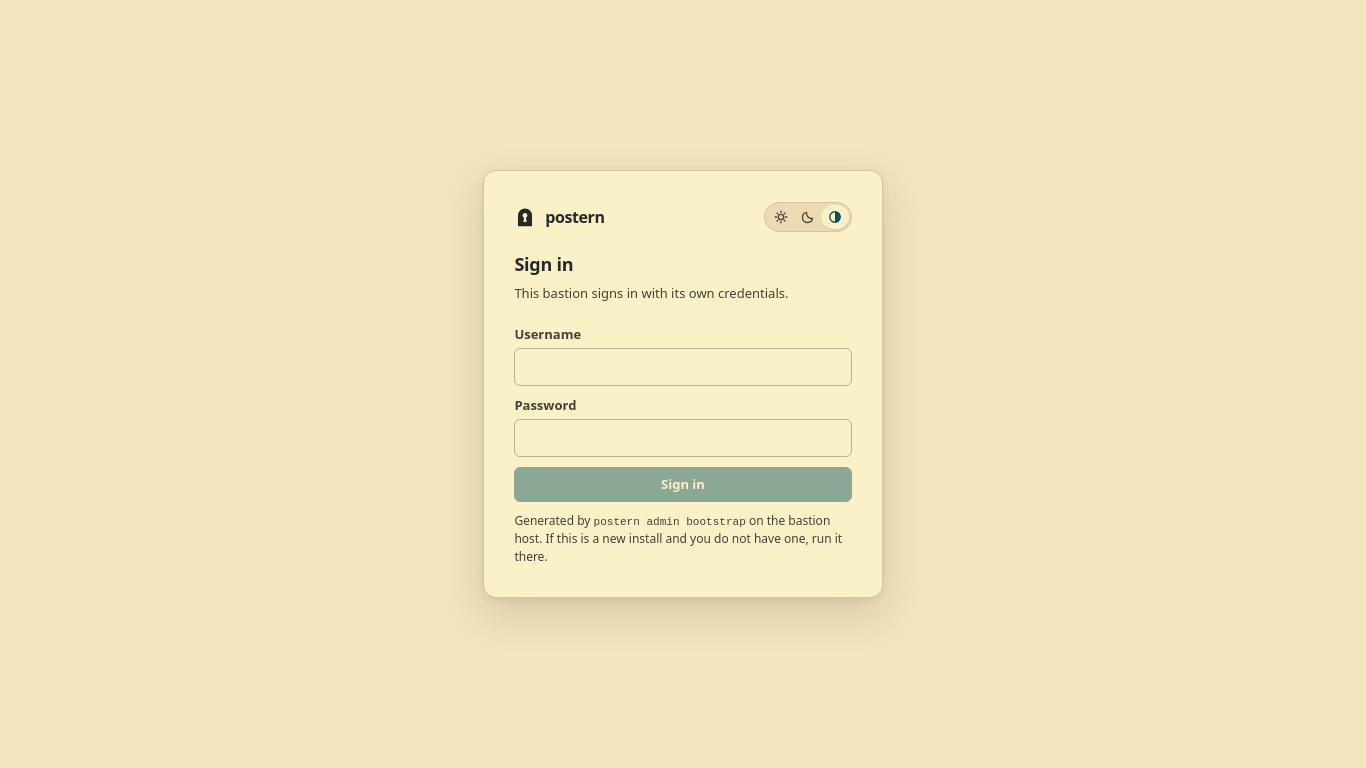
giris yollari › suresi gecmis istem giris adimina dondurur
expect the password field labelled "Password" is shown: met, box [514,419,852,457]
Type "ayse" into the field labelled "Username". click: {"x": 683, "y": 367}
box: [514,348,852,386]
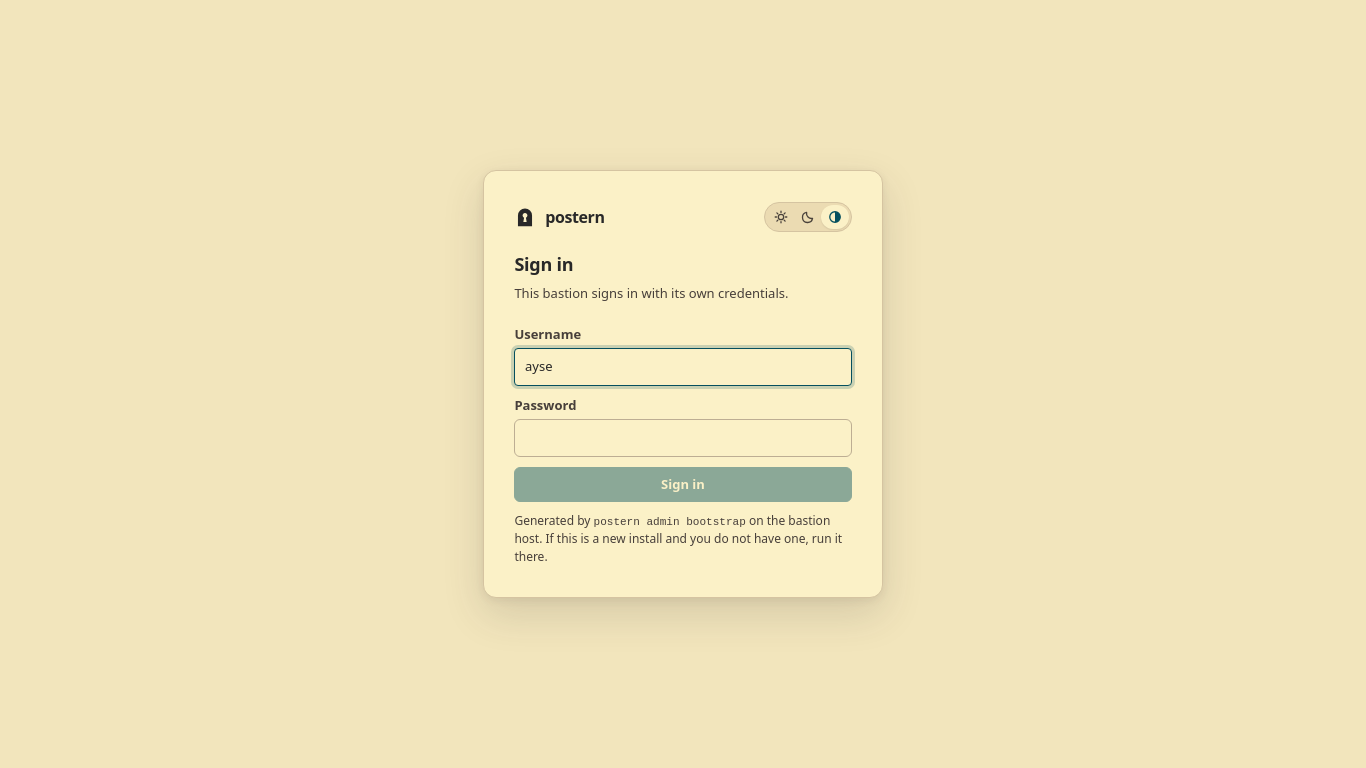
Type "hunter2" into the password field labelled "Password". click: {"x": 683, "y": 438}
box: [514,419,852,457]
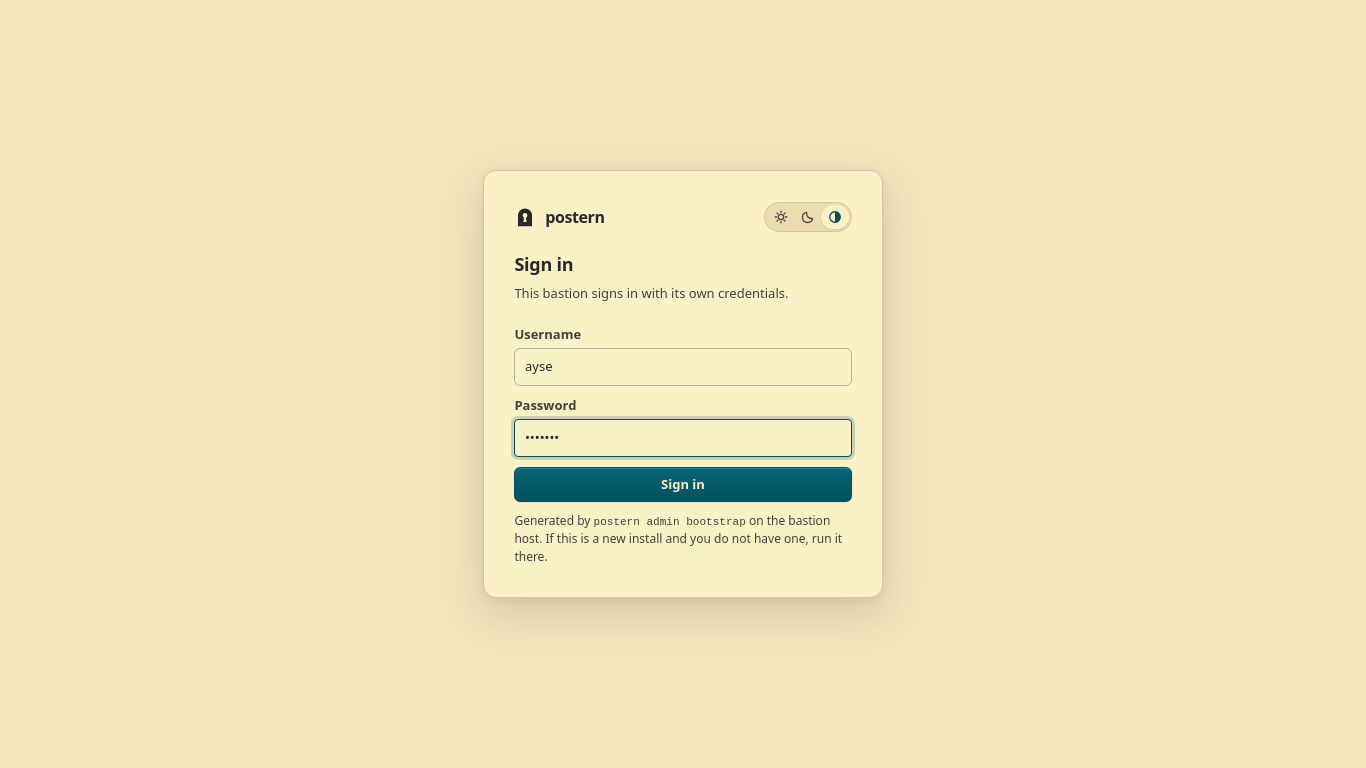
Click the button "Sign in". click: {"x": 683, "y": 484}
box: [514,467,852,502]
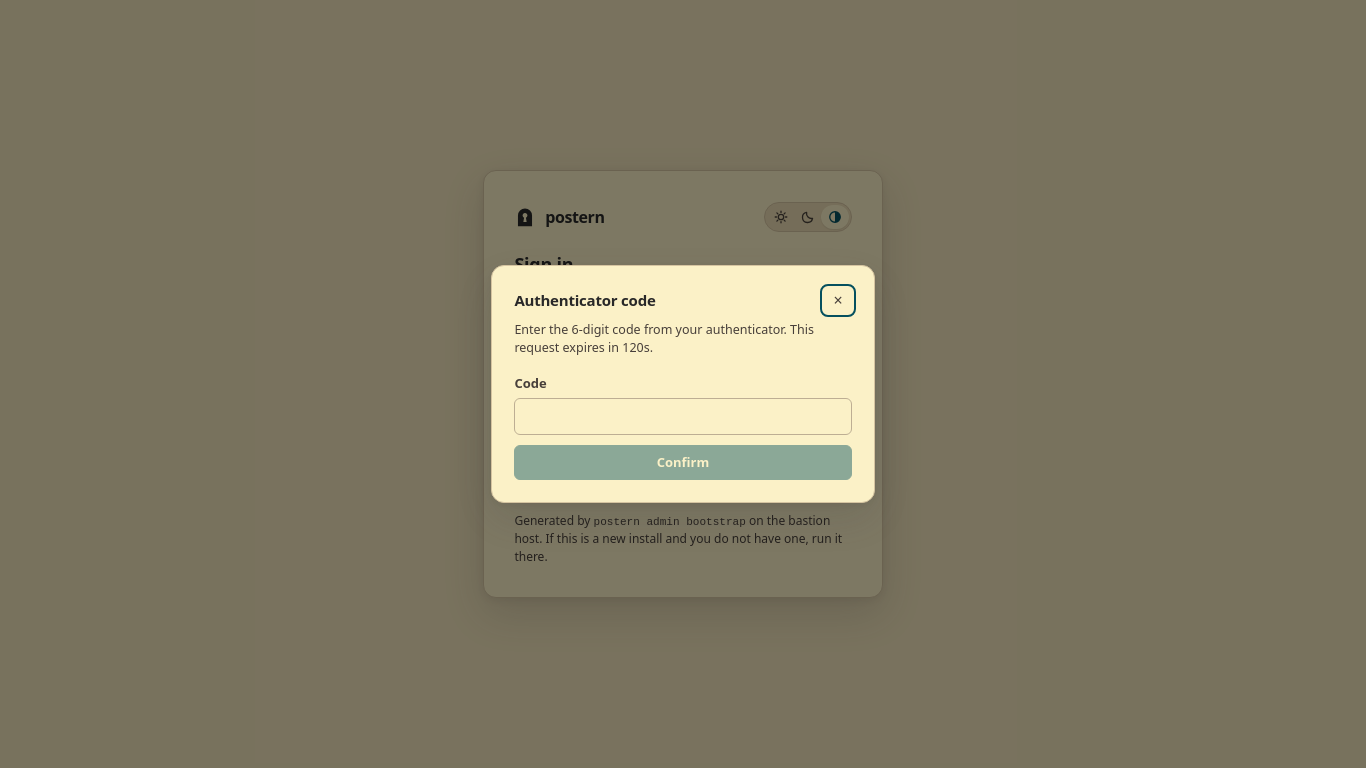
Type "123456" into the field labelled "Code". click: {"x": 683, "y": 416}
box: [514,398,852,435]
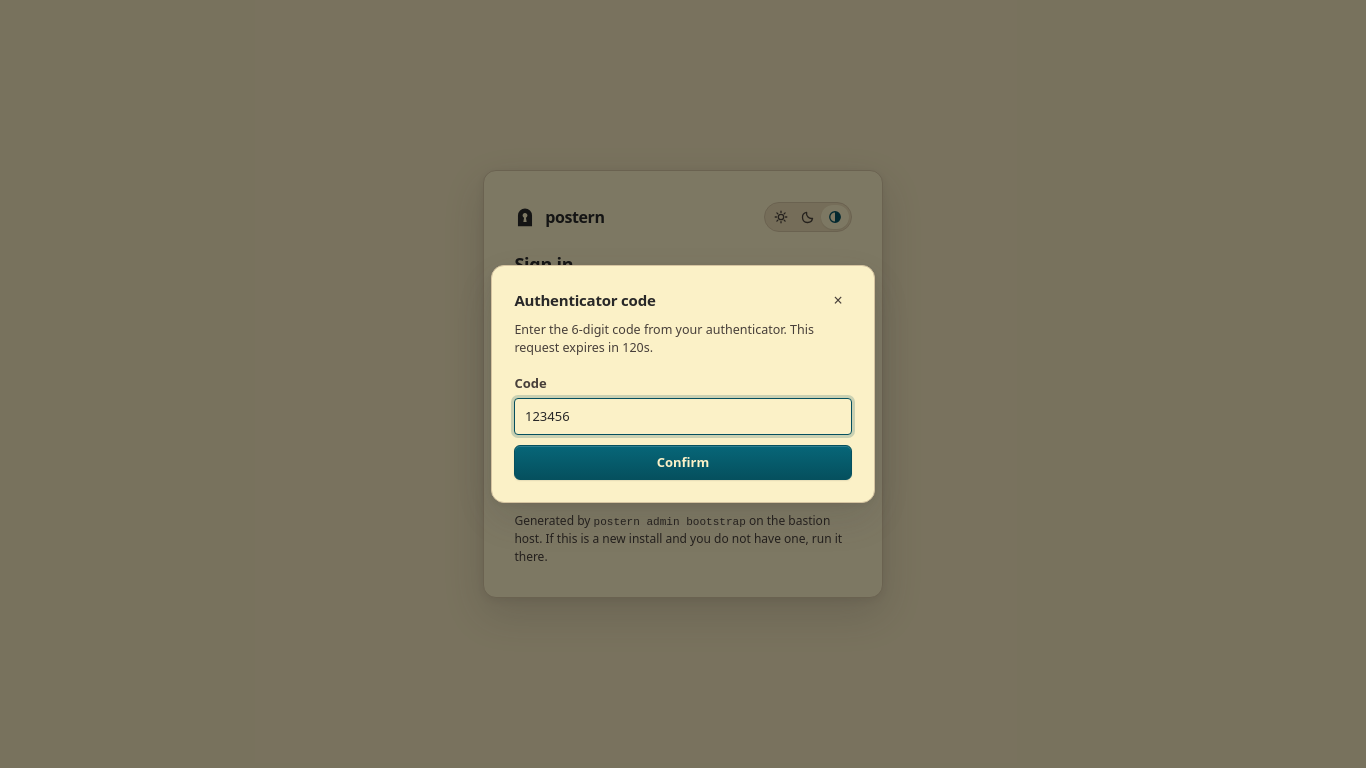
Click the button "Confirm". click: {"x": 683, "y": 462}
box: [514,445,852,480]
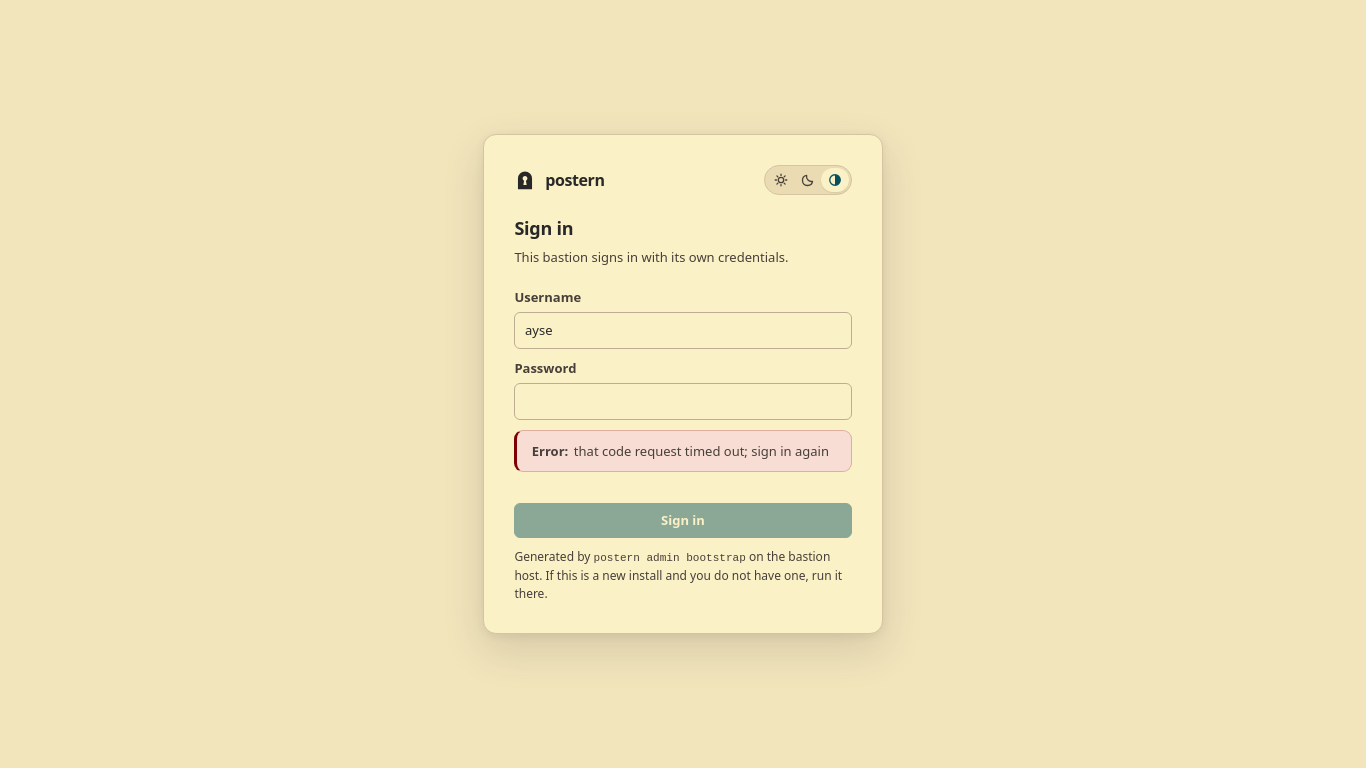
expect the text "that code request timed out; sign in again" is shown: met, box [514,430,852,472]
